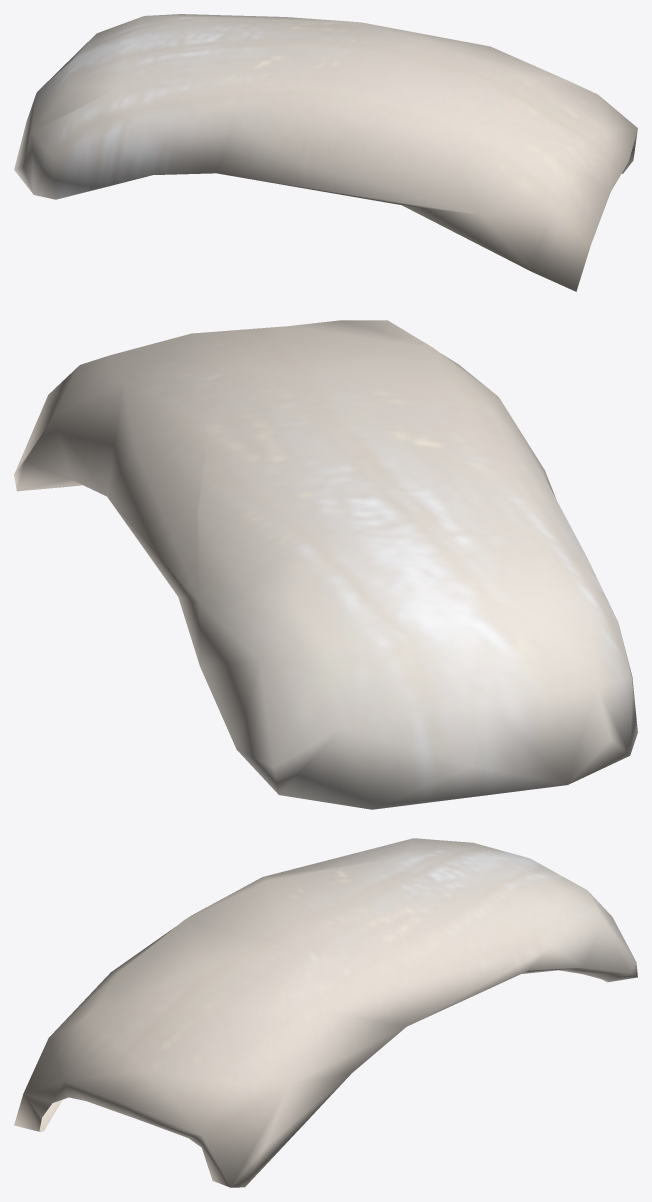
The model's file is squildsashimi.fbx.
3 renders of one model, top to bottom at view 1: azimuth 30°, elevation 25°; view 2: azimuth 150°, elevation 25°; view 3: azimuth 270°, elevation 25°, orthographic. The views are drawn at different scales.
Parts seen in each view (by area): view 1: Salmon 4.007; view 2: Salmon 4.007; view 3: Salmon 4.007.
Boxes of the visible parts, box(x1,y1,x2,y2) form: Salmon 4.007: box(14, 14, 637, 291); Salmon 4.007: box(14, 320, 637, 809); Salmon 4.007: box(14, 838, 637, 1187).
Size of the model in its own units: 101 by 31.64 by 102.
Materials: 1 (1 with a texture image).
